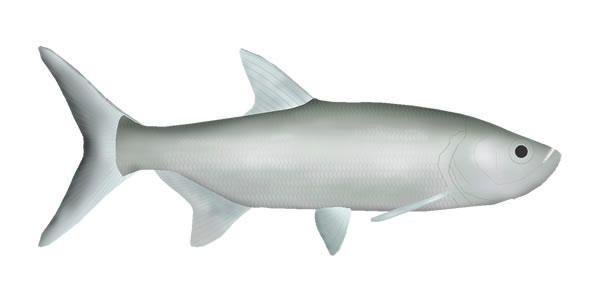Indo-Pacific Tarpon: (28, 46, 566, 253)
